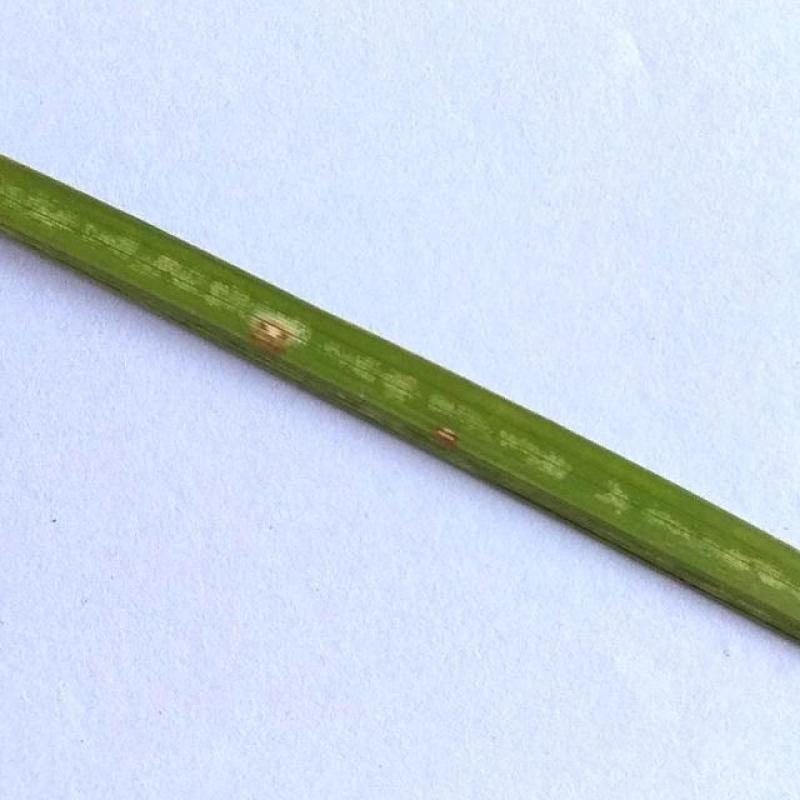Leaf_Blast: (221, 282, 331, 398), (394, 388, 497, 486)
